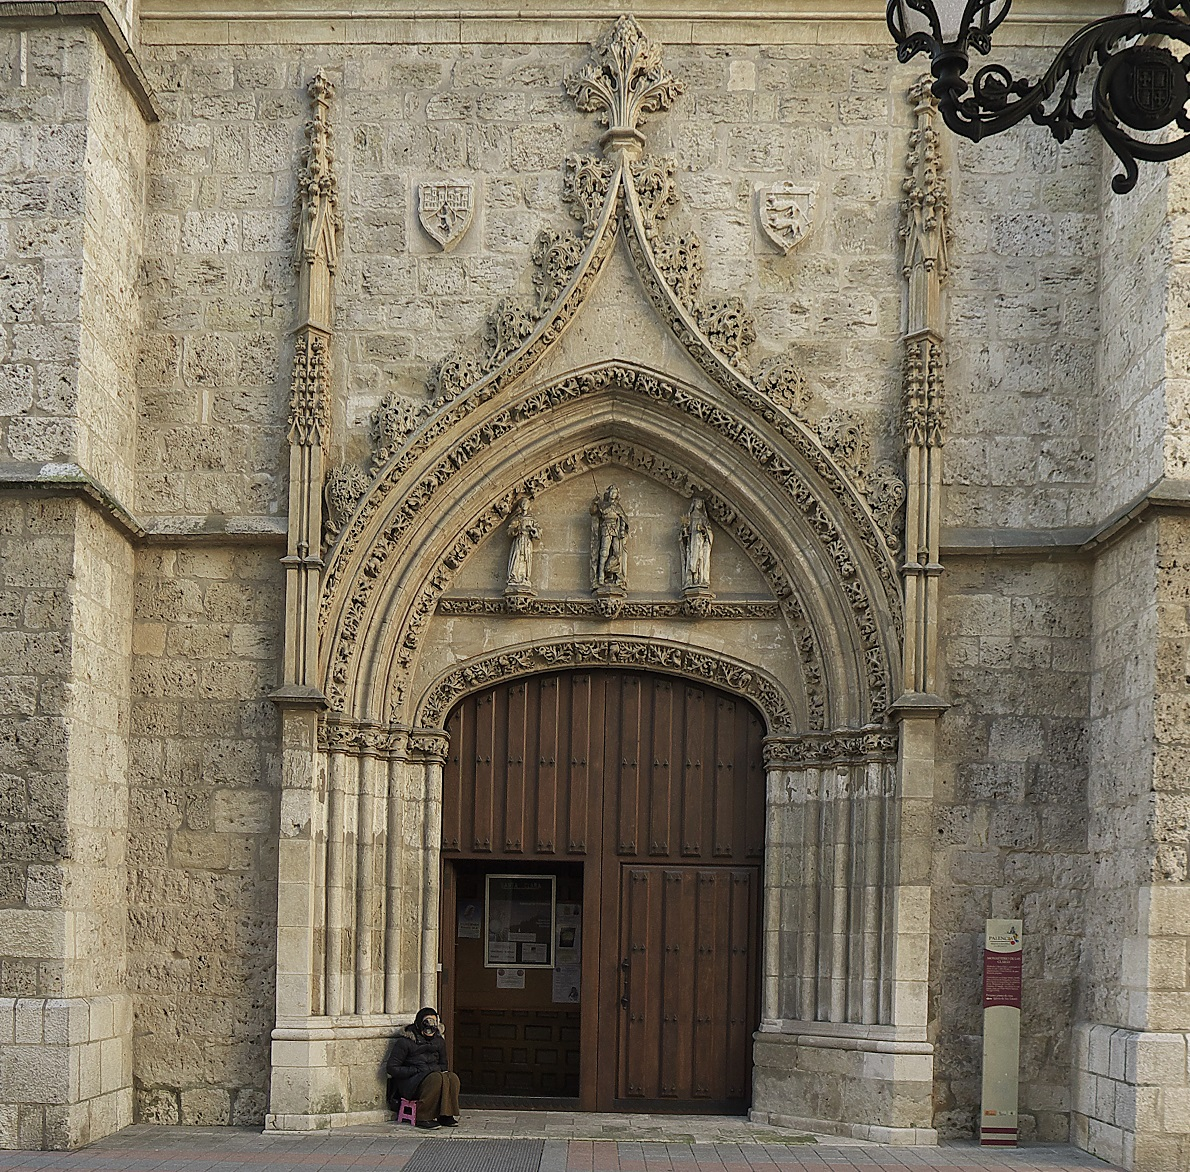arco-apuntado: (361, 409, 843, 695)
arco-conopial: (359, 153, 863, 485)
